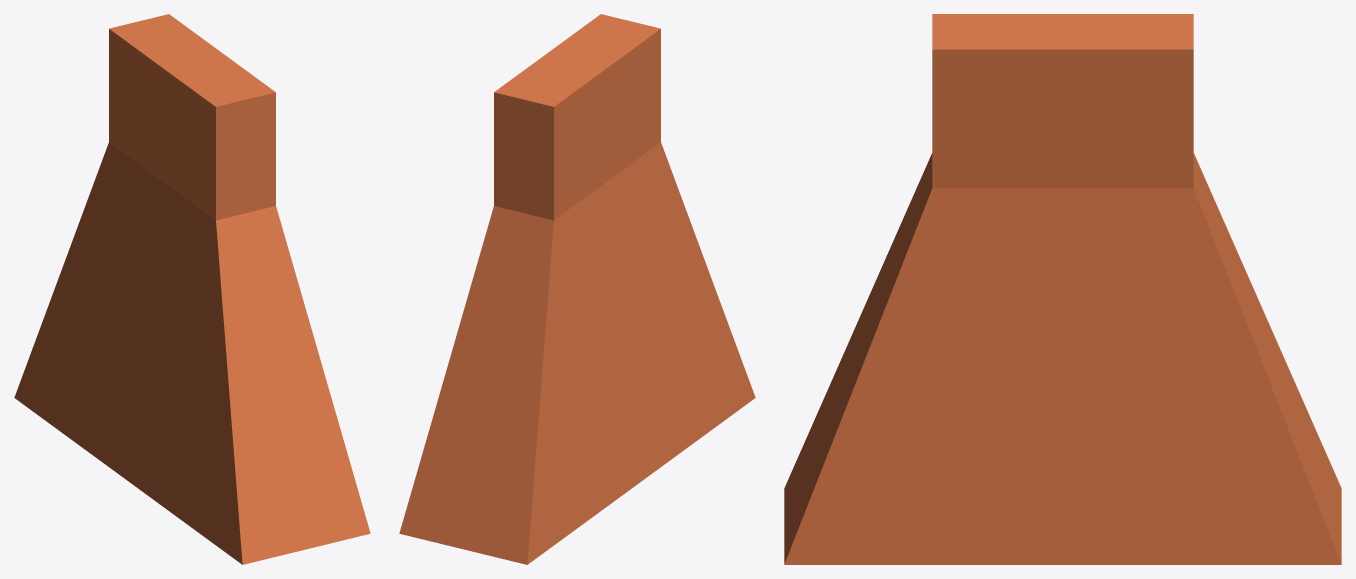
3 views of the same model, side by side, from view 1: azimuth 30°, elevation 25°; view 2: azimuth 150°, elevation 25°; view 3: azimuth 270°, elevation 25° (orthographic). The views are drawn at different scales.
Parts seen in each view (by area): view 1: Cube; view 2: Cube; view 3: Cube.
Boxes of the visible parts, <box> form: Cube: <box>14,14,370,564</box>; Cube: <box>399,14,755,564</box>; Cube: <box>784,14,1341,564</box>.
Size of the model in its own units: 200 by 605 by 617.
